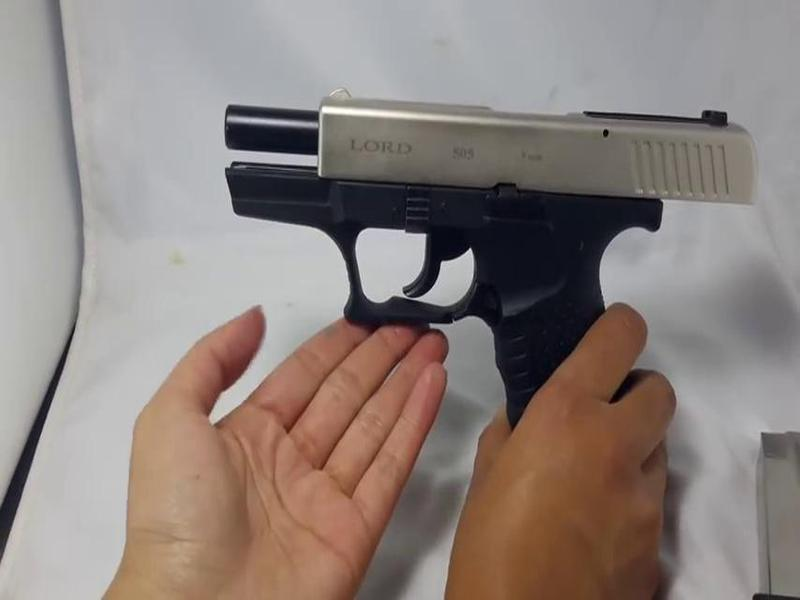Pistola: (208, 74, 766, 472)
